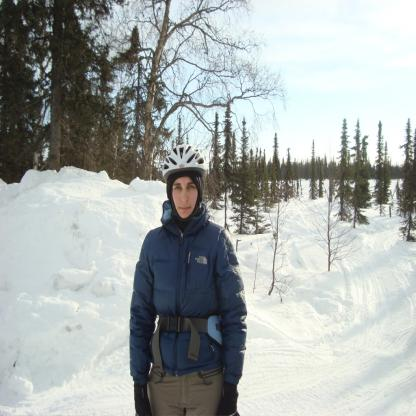Helmet: (159, 148, 208, 239)
